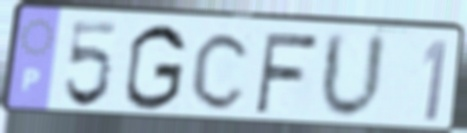1: (420, 37, 449, 124)
5: (61, 18, 119, 111)
C: (188, 28, 255, 113)
F: (252, 30, 322, 115)
G: (121, 22, 189, 114)
U: (317, 28, 390, 124)
